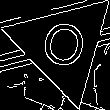O_S: (35, 15, 91, 77)
